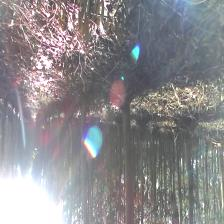trunk: (119, 93, 135, 219), (183, 134, 197, 223), (81, 99, 88, 212)
